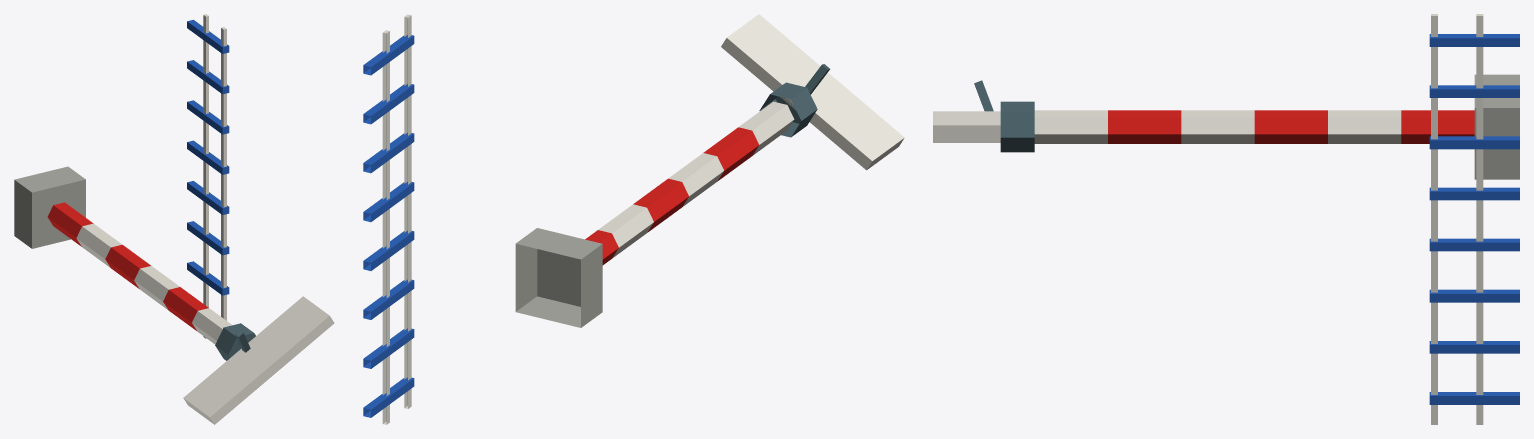
Rendered from frame_1.glb.
3 renders of one model, left to right at view 1: azimuth 30°, elevation 25°; view 2: azimuth 150°, elevation 25°; view 3: azimuth 270°, elevation 25°, orthographic. The views are drawn at different scales.
Visible parts, largest first — view 1: t5_4_g31.001; view 2: t5_4_g31.001; view 3: t5_4_g31.001.
Part boxes in pixels (<box>): t5_4_g31.001: <box>14,14,334,424</box>; t5_4_g31.001: <box>363,14,904,424</box>; t5_4_g31.001: <box>933,14,1519,424</box>.
Bounding box in the file's own units: 11.16 × 16 × 20.8.
